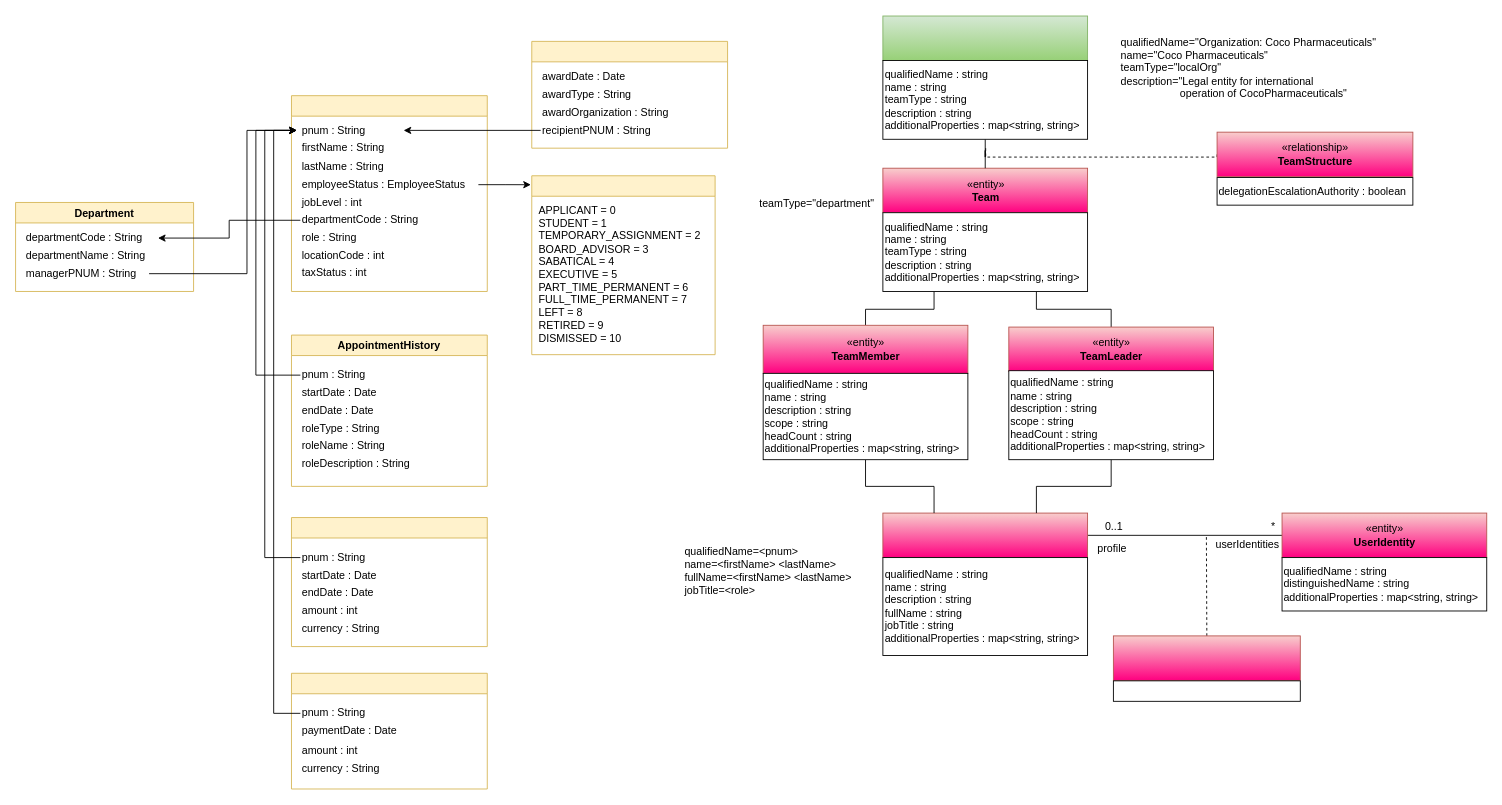
Some shapes in this 1502 by 805 pixel diagram are drawn without their labels. The box of each missing label's shape, as (x1, y1, x2, y2) in pixels:
AwardHistory: (531, 40, 728, 148)
BonusHistory: (291, 672, 487, 789)
EmployeeStatus: (531, 175, 715, 355)
Person: (291, 95, 487, 291)
SalaryHistory: (291, 517, 487, 647)
«entity» Organization: (882, 15, 1088, 61)
«entity» Person: (882, 512, 1088, 558)
«relationship» ProfileIdentity: (1112, 635, 1300, 680)
